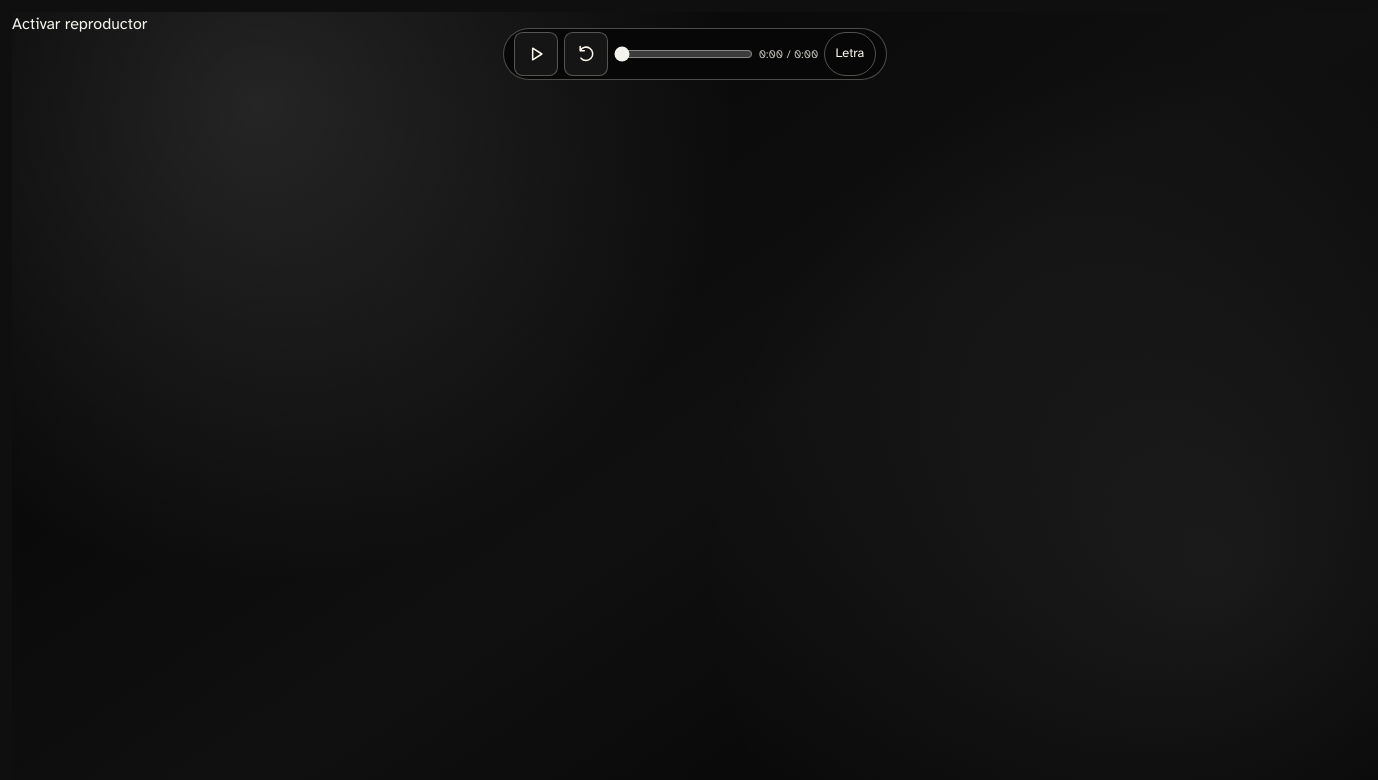
Test: BugCesantePlayerProvider › starts alternate playback only after explicit Play
Click the button named "Reproducir canción": (536, 54) [514, 32, 558, 76]
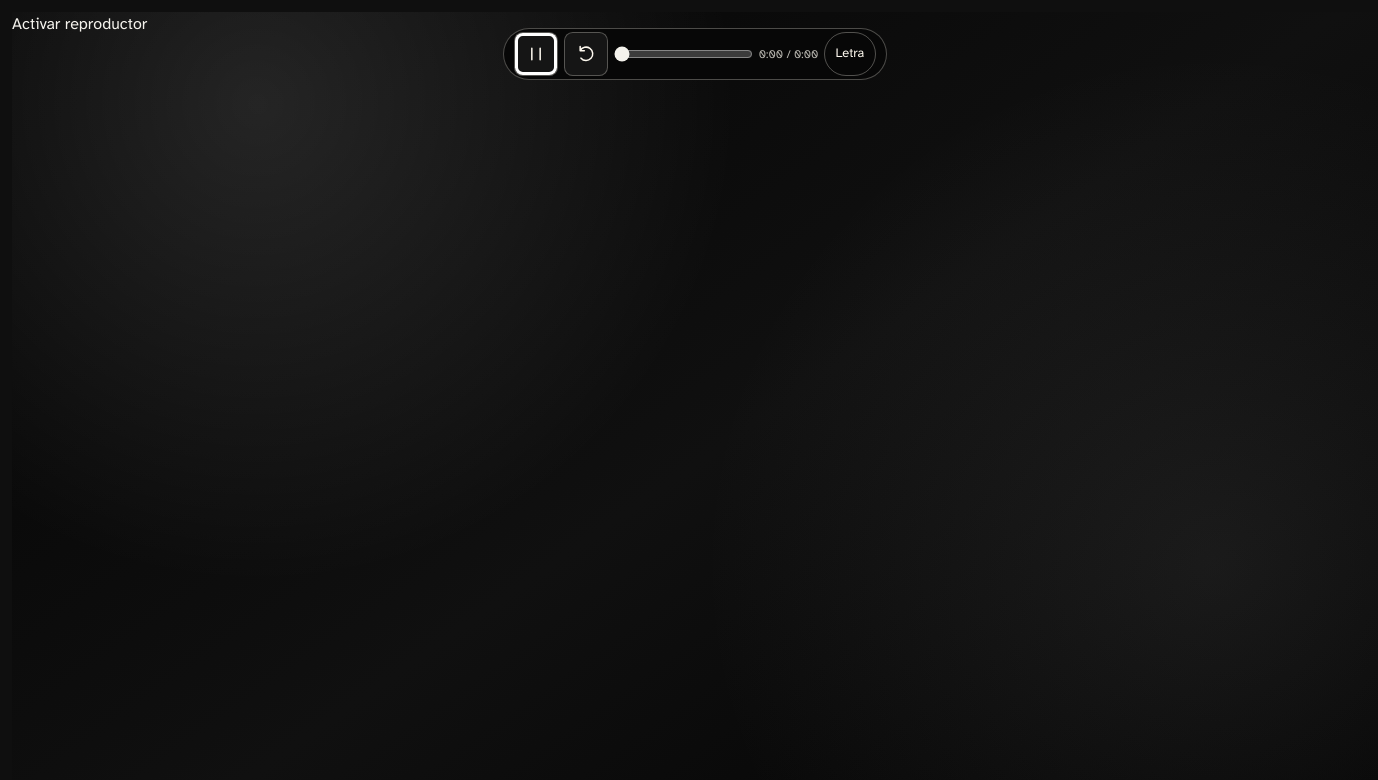
Expected: the button named "Pausar canción" is shown
Click the button named "Pausar canción": (536, 54) [514, 32, 558, 76]
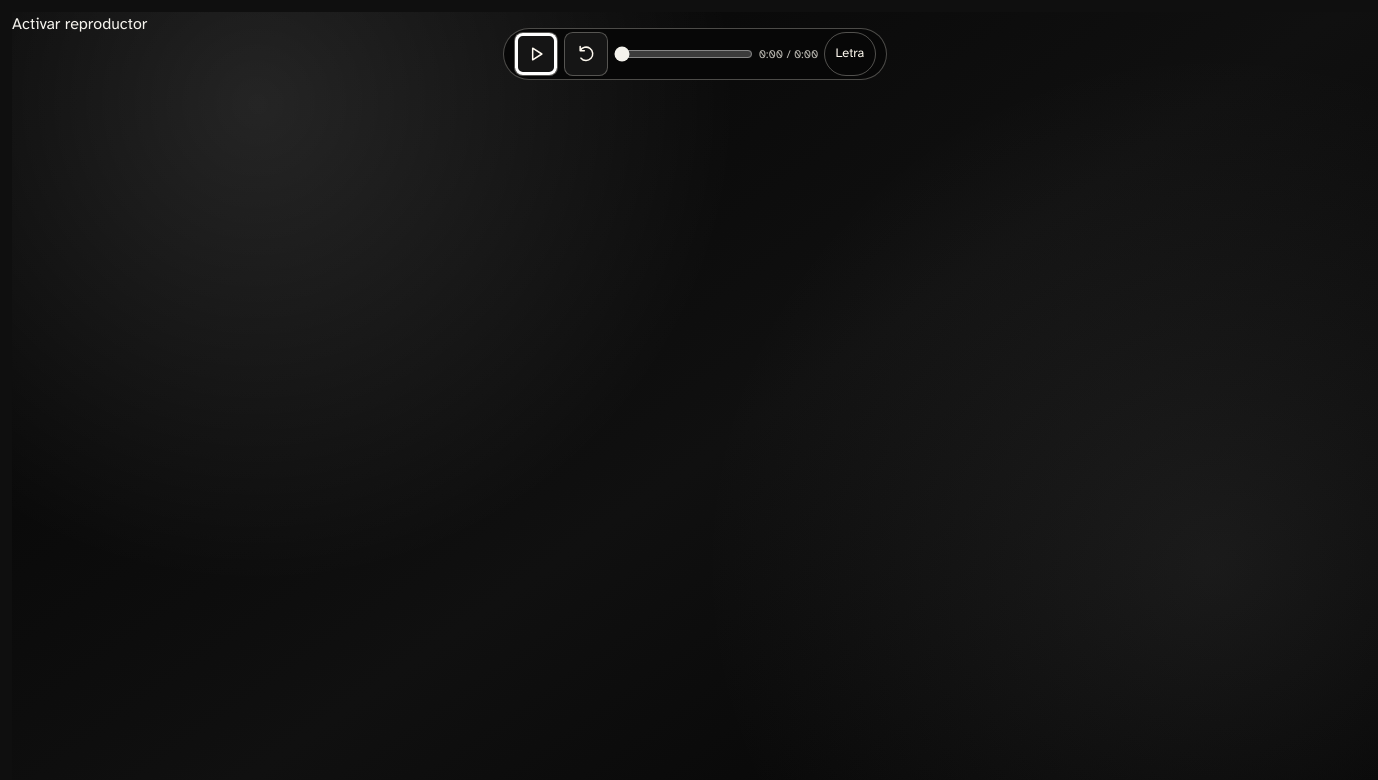
Expected: the button named "Reproducir canción" is shown
Click the button named "Reproducir canción": (536, 54) [514, 32, 558, 76]
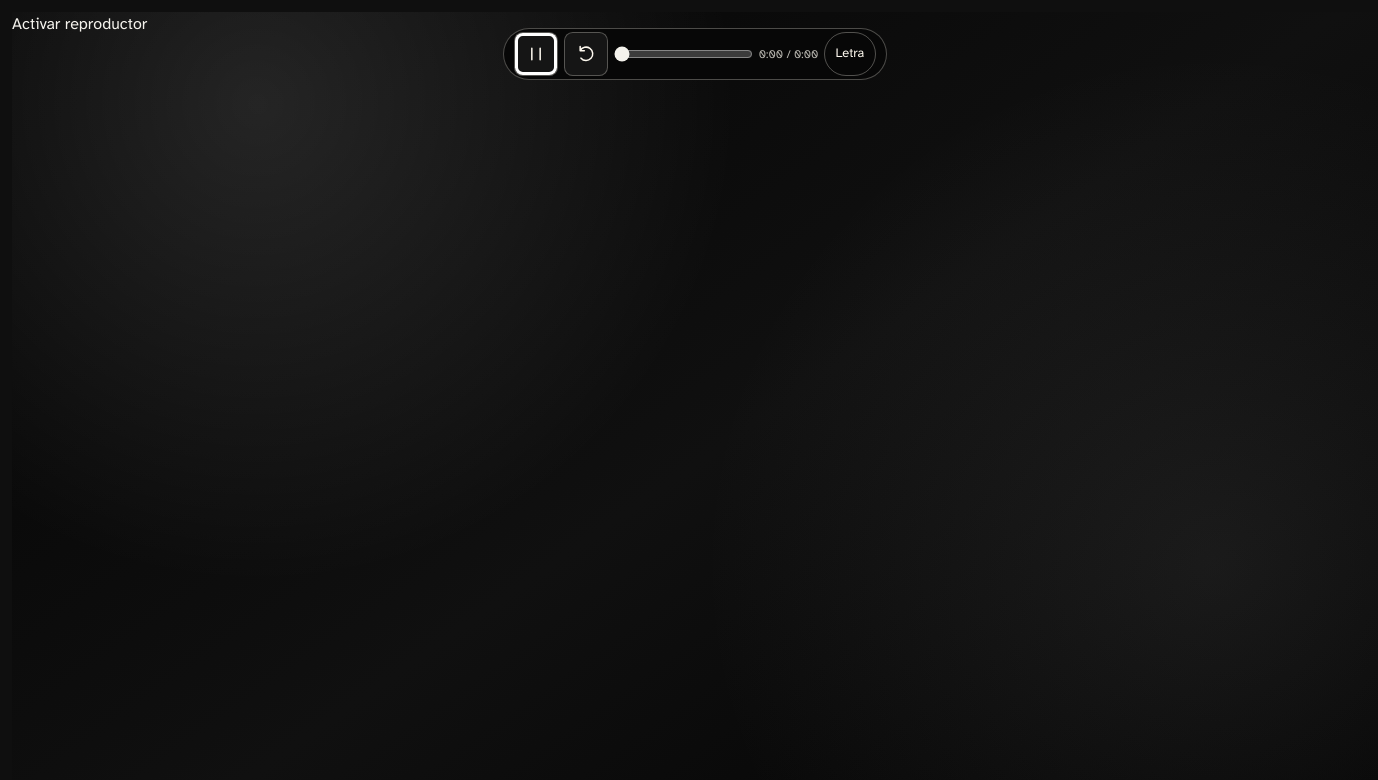
Expected: the button named "Pausar canción" is shown, [514, 32, 558, 76]
